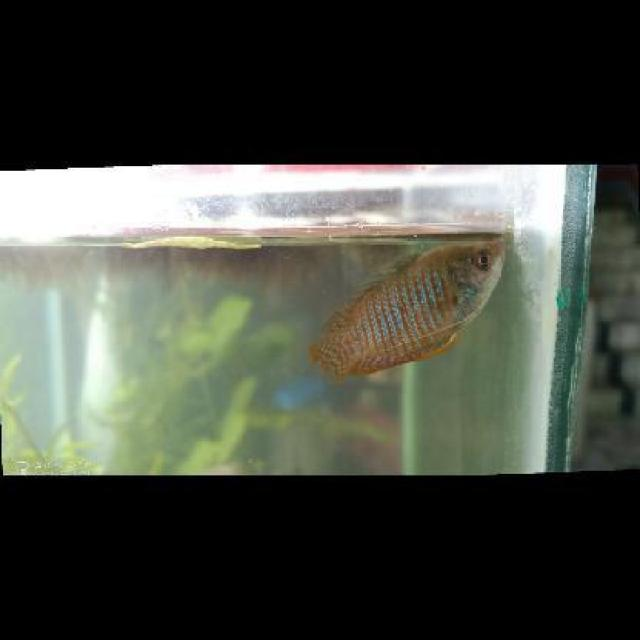Gourami: (304, 240, 504, 382)
